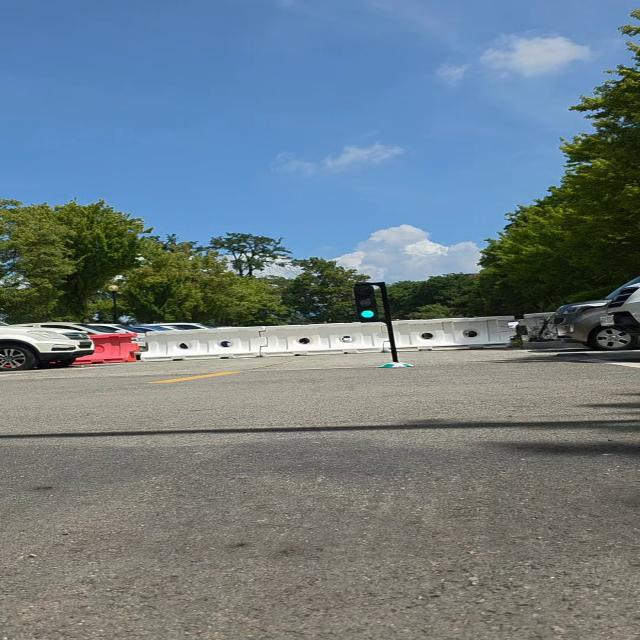green: (354, 278, 384, 322)
